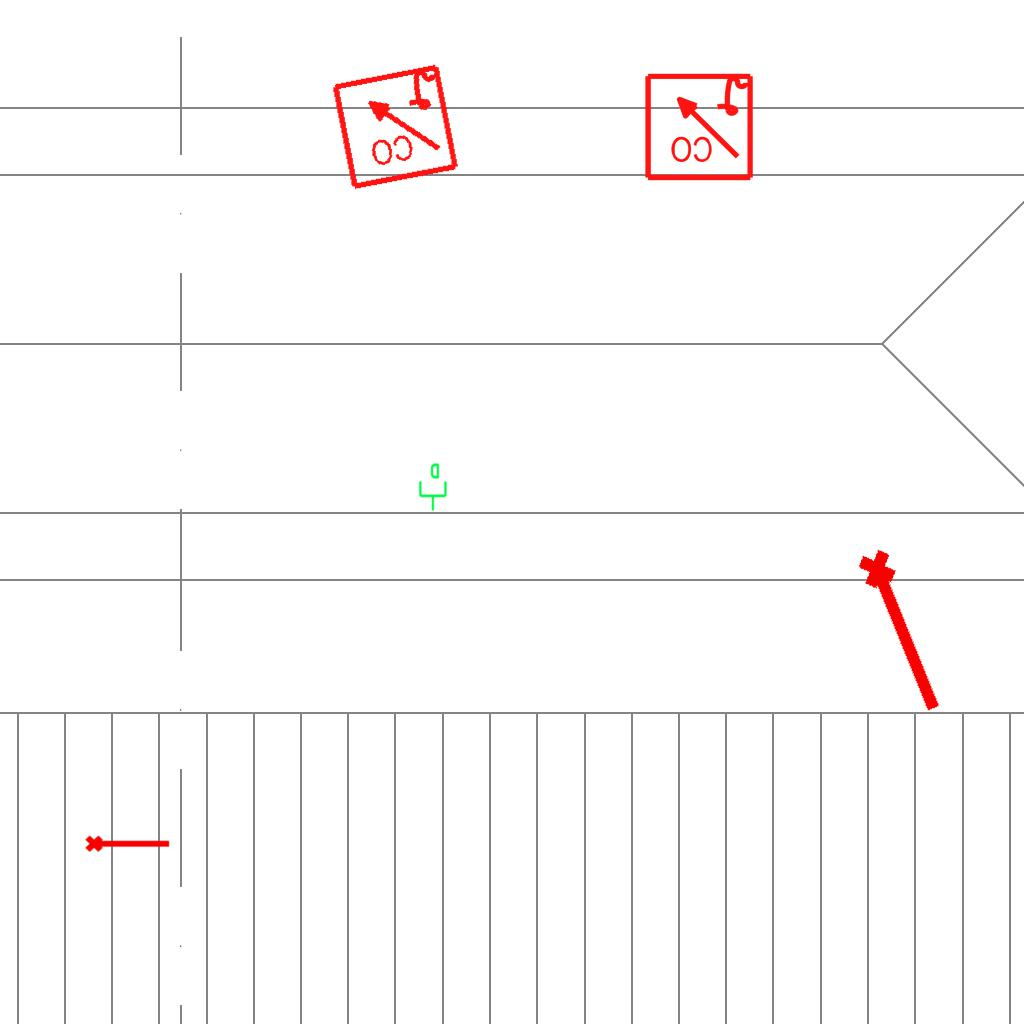ASR_Ansaugoeffnung: (850, 540, 960, 722), (84, 831, 172, 854)
Datenanschluss_einfach: (415, 462, 449, 512)
ROA_Rauchmelder_optisch_mit_Signalgeber_(Sockelsirene): (328, 59, 461, 192), (642, 69, 755, 182)
